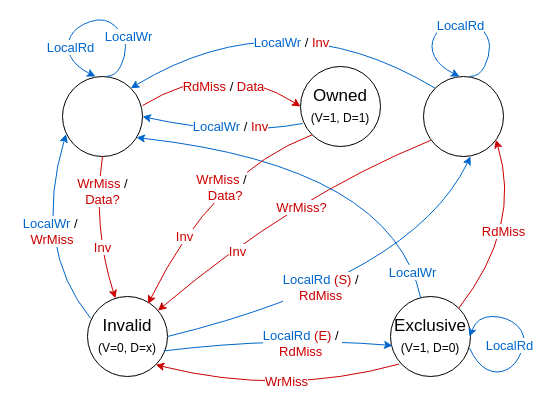
This 550x407 diagram has some shape labels left out. Here are the shapes that lost their labels. From the top down, the box of each, then its label:
(62, 76, 142, 156): Modified (V=1, D=1)
(422, 76, 504, 156): Shared (V=1, D=0)
